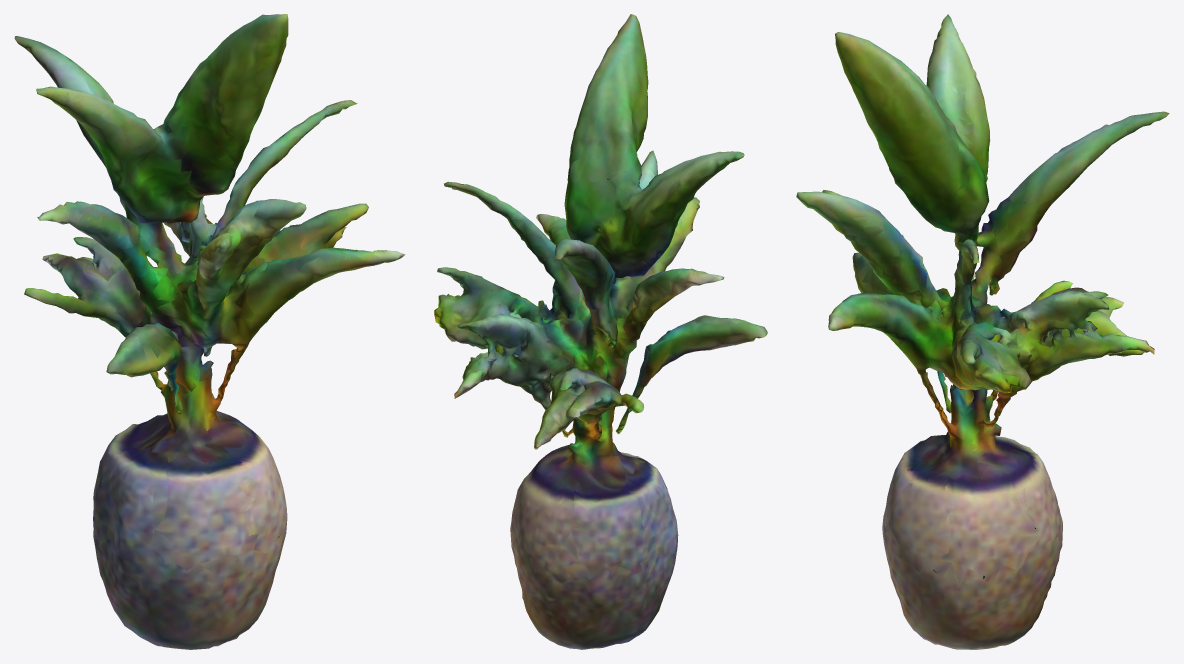
The model's file is plant3.fbx.
3 renders of one model, left to right at view 1: azimuth 30°, elevation 25°; view 2: azimuth 150°, elevation 25°; view 3: azimuth 270°, elevation 25°, orthographic. The views are drawn at different scales.
Visible parts, largest first — view 1: Mesh1; view 2: Mesh1; view 3: Mesh1.
Part boxes in pixels (left/top/right/bottom): Mesh1: left=14, top=14, right=405, bottom=649; Mesh1: left=434, top=14, right=767, bottom=649; Mesh1: left=796, top=14, right=1169, bottom=649.
Size of the model in its own units: 64.48 by 120 by 65.77.
1 material, 1 textured.
